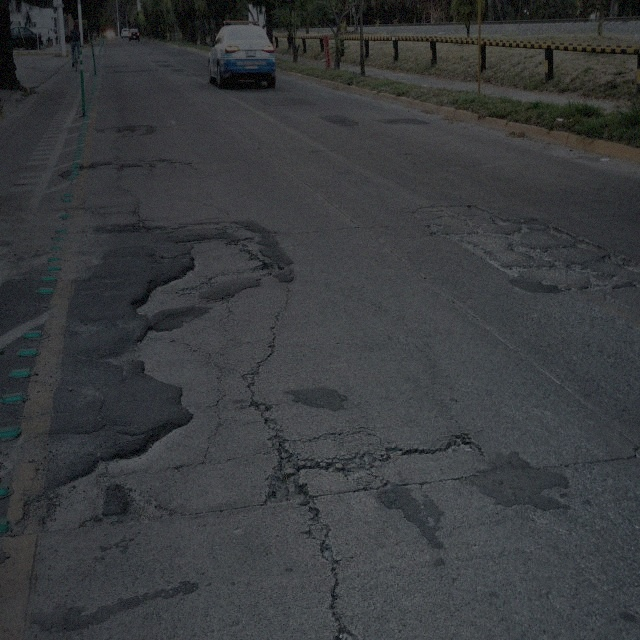pothole: (264, 438, 314, 506), (134, 274, 183, 324), (128, 487, 172, 525), (446, 433, 483, 457), (254, 257, 285, 275), (80, 510, 103, 531), (322, 542, 338, 564)
